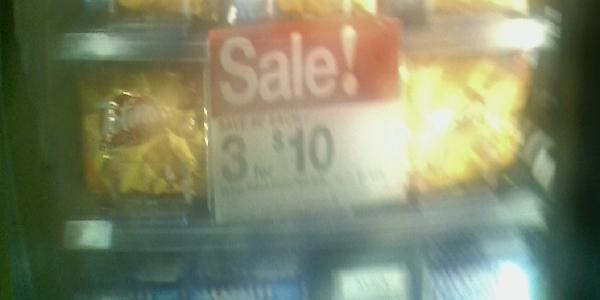icecream: (398, 50, 536, 210), (74, 59, 205, 213)
